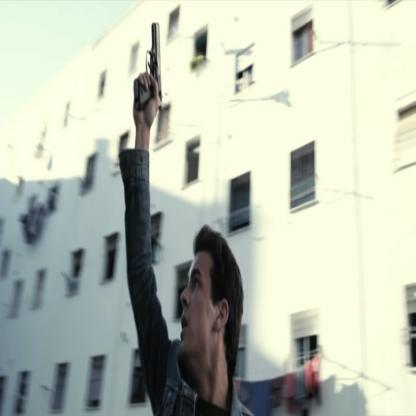gun: (121, 22, 172, 130)
